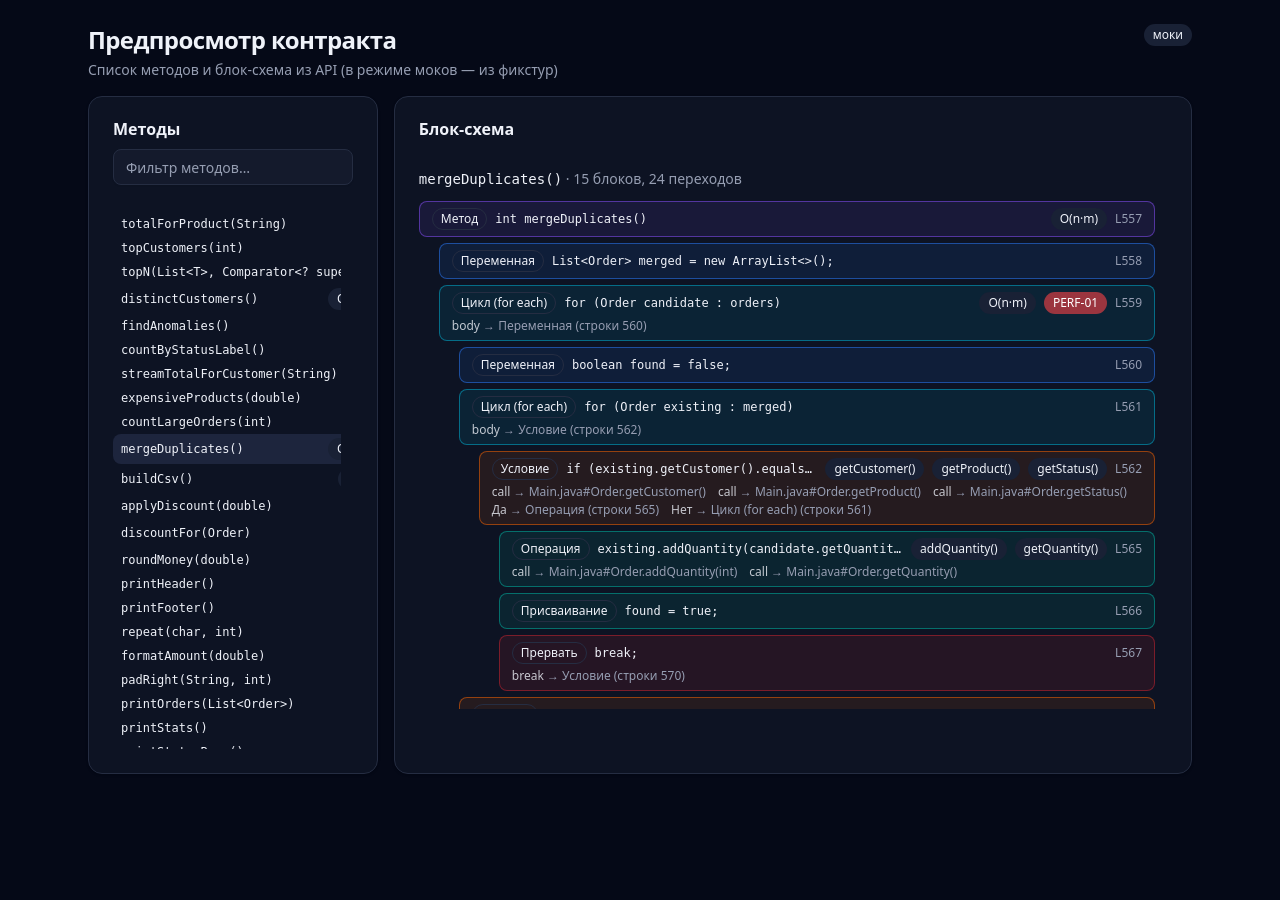
PreviewScreen на моках › переключает схему при выборе другого метода
The image size is (1280, 900).
(page scrolled)
Click the button "buildCsv() O(n²) 1": (157,479) top-left (113, 464), bottom-right (425, 494)
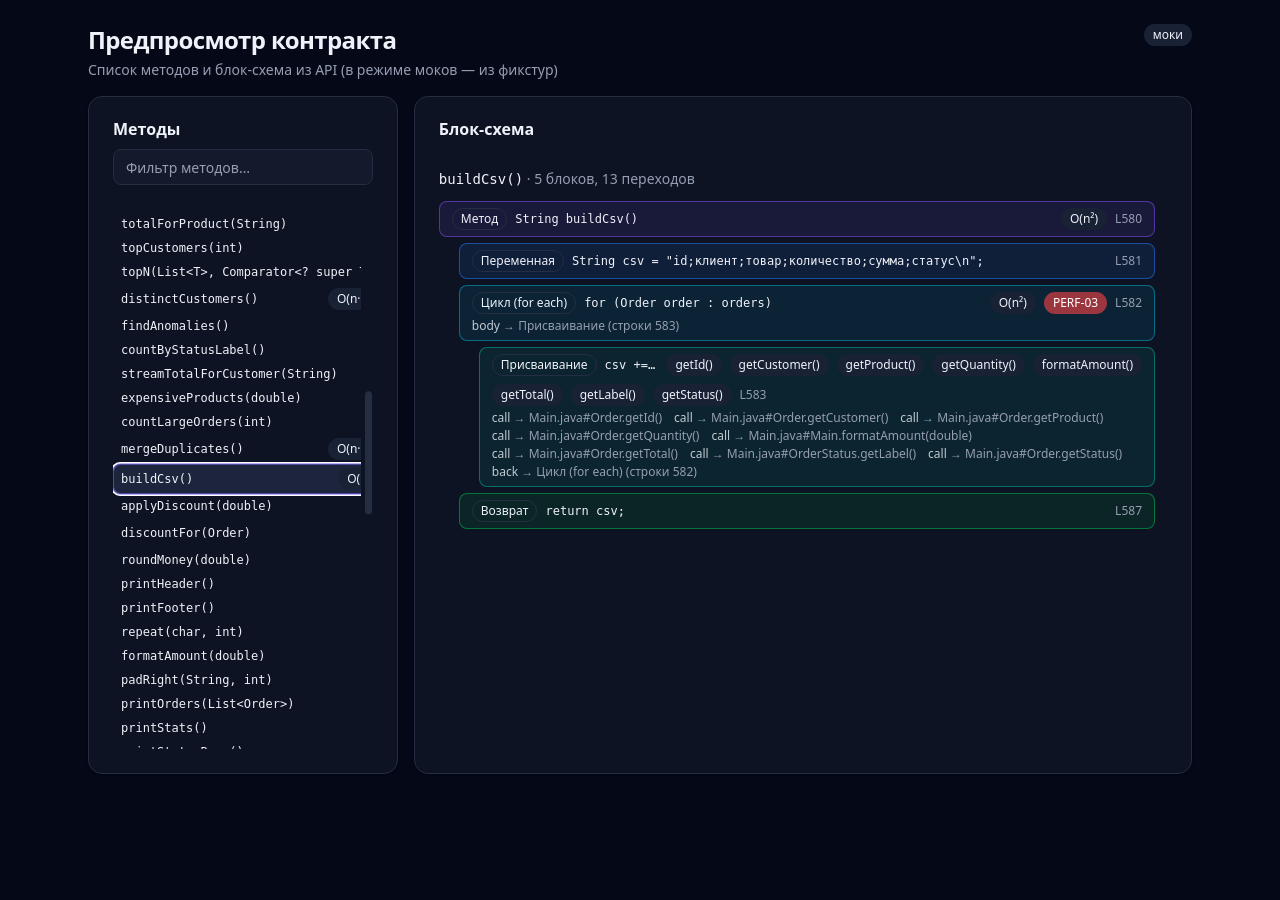
Now the number of list items with test id "flow-node" is 5, box top-left (439, 201), bottom-right (1155, 237); top-left (459, 243), bottom-right (1155, 279); top-left (459, 285), bottom-right (1155, 341); top-left (479, 347), bottom-right (1155, 487); top-left (459, 493), bottom-right (1155, 529)
